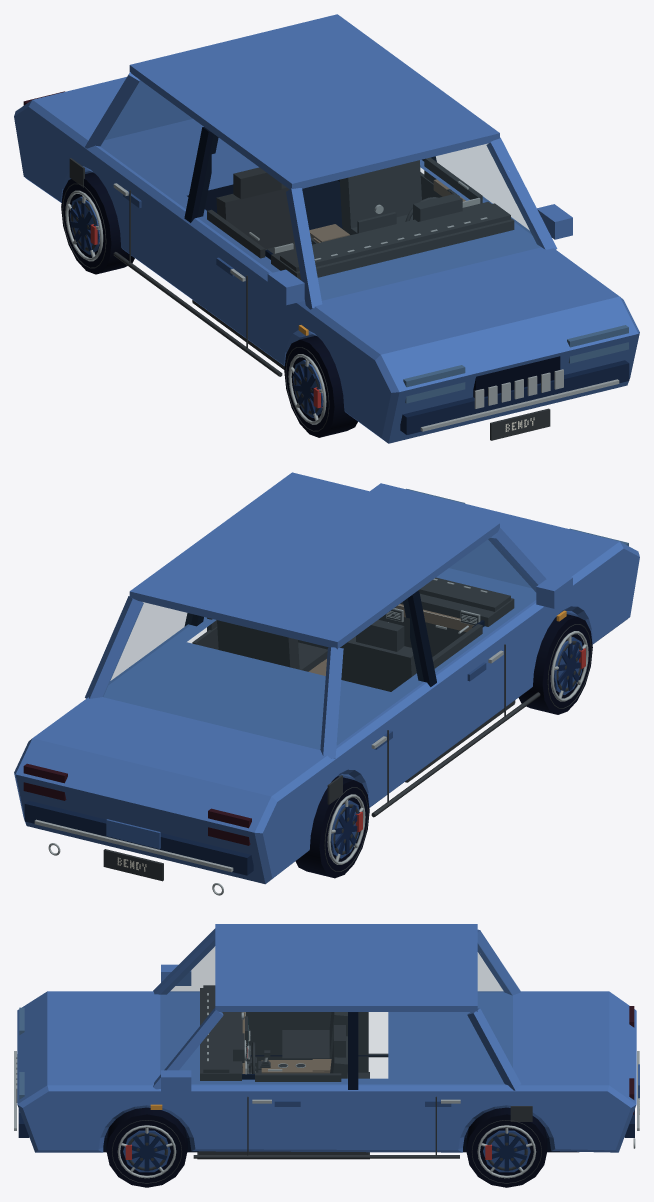
The picture shows the model from 3 angles, top to bottom: view 1: azimuth 30°, elevation 25°; view 2: azimuth 150°, elevation 25°; view 3: azimuth 270°, elevation 25°; orthographic projection. The views are drawn at different scales.
Parts seen in each view (by area): view 1: body, windows, close-detail-detail-trim, cabin-detail-trim, wheel-mesh_2, wheel-mesh, close-detail-detail-alloy, wheel-front-right-fittings-detail-alloy, wheel-rear-right-fittings-detail-alloy, cabin-cabin-trim; view 2: body, windows, close-detail-detail-trim, cabin-detail-trim, wheel-mesh_2, wheel-mesh, close-detail-detail-alloy, cabin-cabin-trim, wheel-front-right-fittings-detail-alloy, wheel-rear-right-fittings-detail-alloy; view 3: body, windows, cabin-detail-trim, wheel-mesh_3, wheel-mesh_1, close-detail-detail-trim, cabin-cabin-trim, close-detail-detail-alloy, wheel-front-left-fittings-detail-alloy, wheel-rear-left-fittings-detail-alloy, wheel-rear-left-fittings-detail-trim, wheel-front-left-fittings-detail-trim.
Part boxes in pixels (x1,y1,x2,y2): body: (14,14,639,443); windows: (101,80,540,299); close-detail-detail-trim: (69,158,550,440); cabin-detail-trim: (192,157,514,369); wheel-mesh_2: (284,335,357,437); wheel-mesh: (61,172,134,274); close-detail-detail-alloy: (113,183,619,431); wheel-front-right-fittings-detail-alloy: (288,354,326,424); wheel-rear-right-fittings-detail-alloy: (65,190,103,261); cabin-cabin-trim: (309,179,465,243); body: (14,472,639,884); windows: (103,538,535,749); close-detail-detail-trim: (103,619,540,881); cabin-detail-trim: (192,577,515,782); wheel-mesh_2: (518,613,592,714); wheel-mesh: (295,776,369,878); close-detail-detail-alloy: (34,650,503,895); cabin-cabin-trim: (308,604,473,675); wheel-front-right-fittings-detail-alloy: (550,631,588,701); wheel-rear-right-fittings-detail-alloy: (327,794,365,864); body: (17,924,639,1152); windows: (161,941,512,1083); cabin-detail-trim: (197,985,369,1159); wheel-mesh_3: (106,1107,187,1187); wheel-mesh_1: (466,1107,547,1187); close-detail-detail-trim: (193,1012,532,1158); cabin-cabin-trim: (242,1012,331,1073); close-detail-detail-alloy: (14,1051,639,1148); wheel-front-left-fittings-detail-alloy: (117,1125,176,1178); wheel-rear-left-fittings-detail-alloy: (477,1125,536,1178); wheel-rear-left-fittings-detail-trim: (471,1120,541,1183); wheel-front-left-fittings-detail-trim: (112,1120,182,1183).
Bounding box in the file's own units: 2.04 × 1.45 × 4.78.
